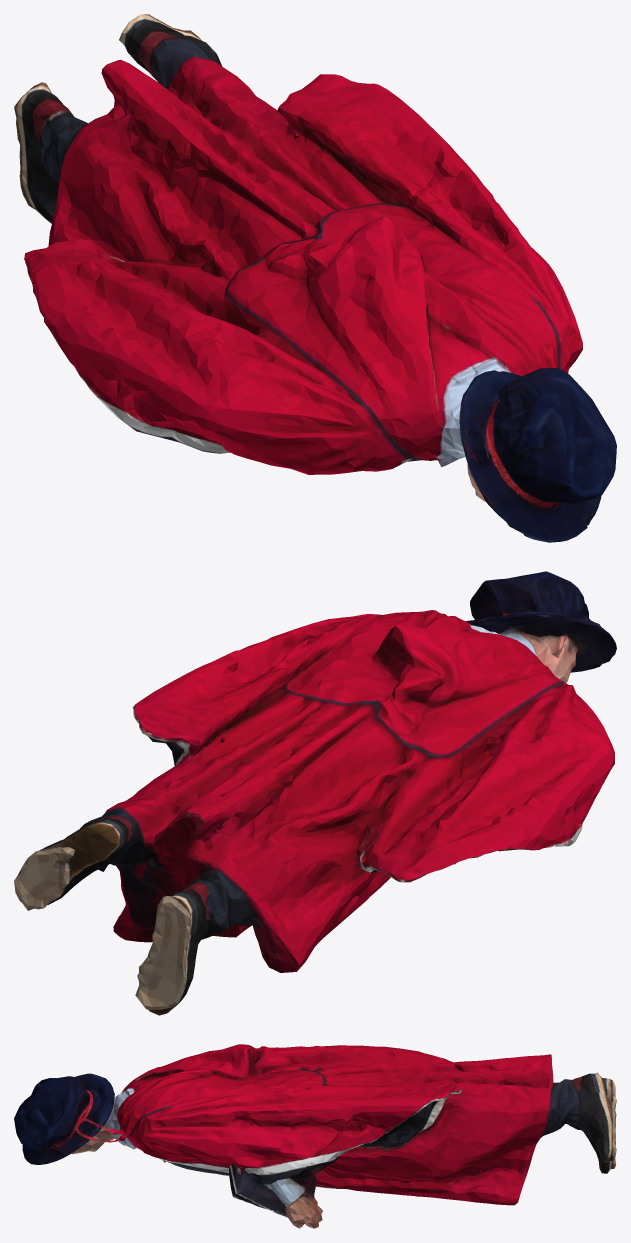
File: AimoGown.glb
3 views of the same model, one above another, from view 1: azimuth 30°, elevation 25°; view 2: azimuth 150°, elevation 25°; view 3: azimuth 270°, elevation 25° (orthographic). The views are drawn at different scales.
Visible parts, largest first — view 1: Mesh; view 2: Mesh; view 3: Mesh.
Part boxes in pixels (x1,y1,x2,y2): Mesh: (14,14,616,542); Mesh: (14,571,616,1015); Mesh: (14,1044,616,1228).
Bounding box in the file's own units: 0.8865 × 0.4645 × 1.8.
Materials: 1 (1 with a texture image).
